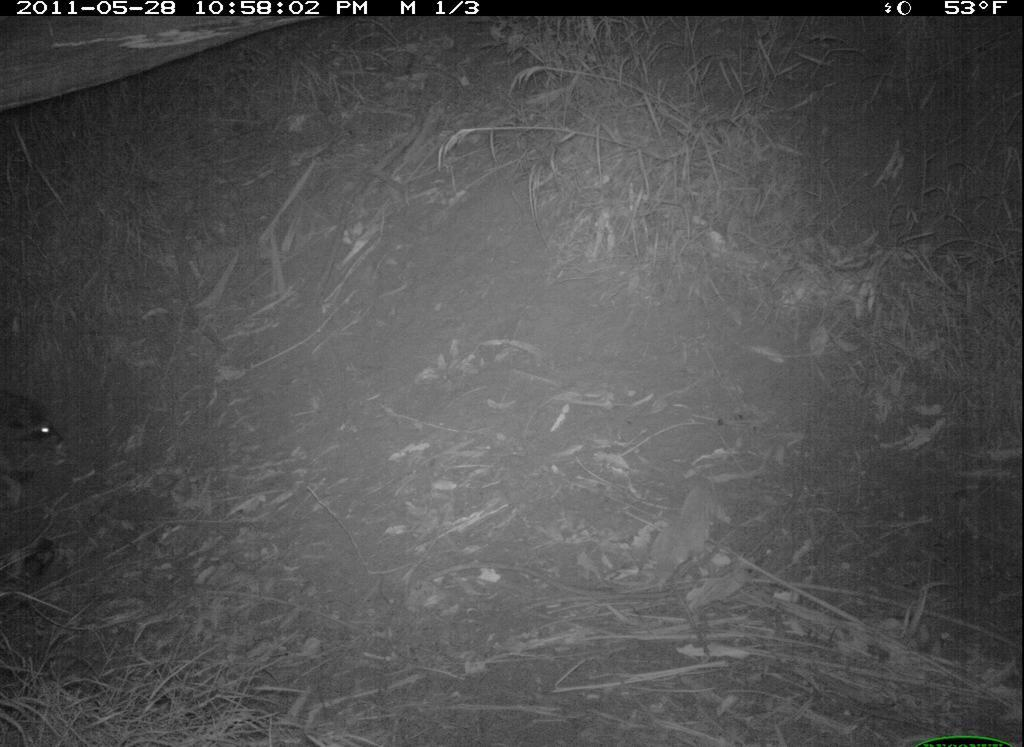raccoon: (1, 376, 68, 493)
